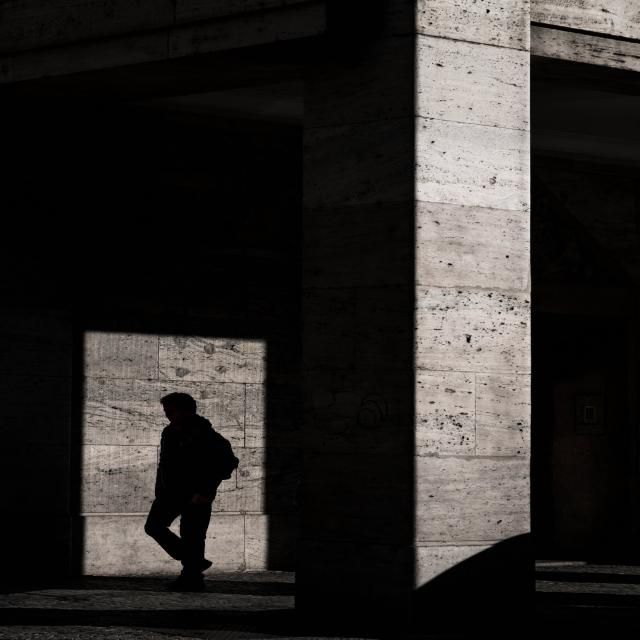adult: (136, 382, 242, 596)
